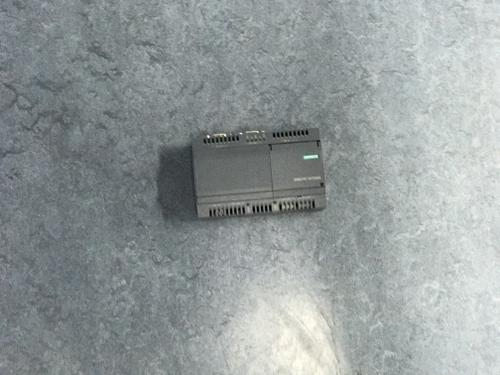device: (192, 128, 327, 221)
